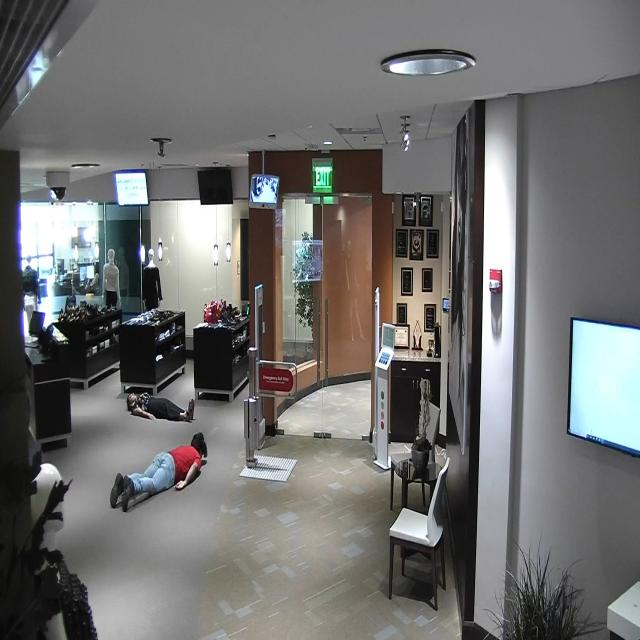fall: (109, 426, 208, 516), (123, 377, 196, 437)
